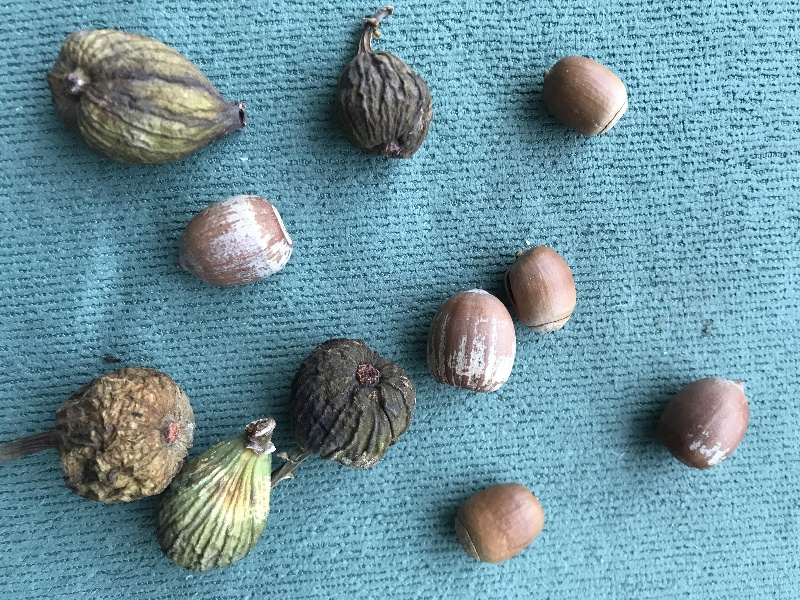fig: (1, 366, 194, 502), (269, 341, 415, 501), (157, 420, 276, 573), (332, 6, 431, 160)
hazelnut: (177, 194, 296, 286), (428, 286, 524, 394), (657, 376, 750, 473), (538, 51, 633, 138), (454, 486, 554, 567), (506, 244, 582, 334)
